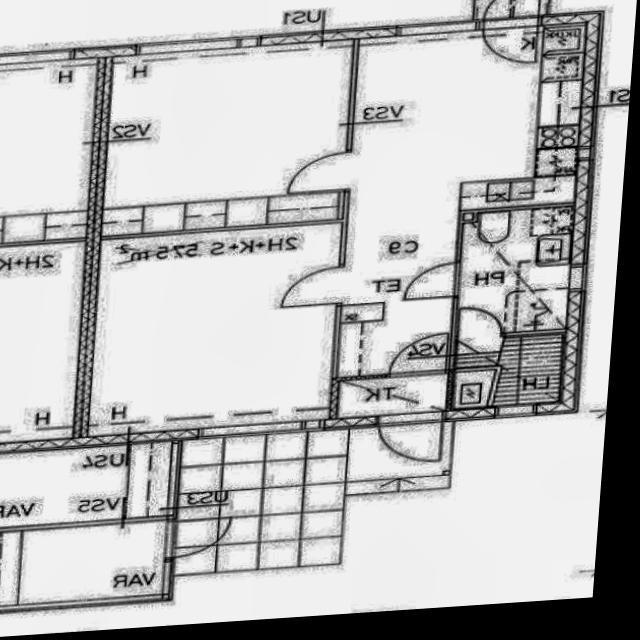room: (76, 224, 353, 435), (94, 41, 363, 208), (453, 201, 573, 415), (0, 521, 178, 610), (0, 442, 177, 527)
